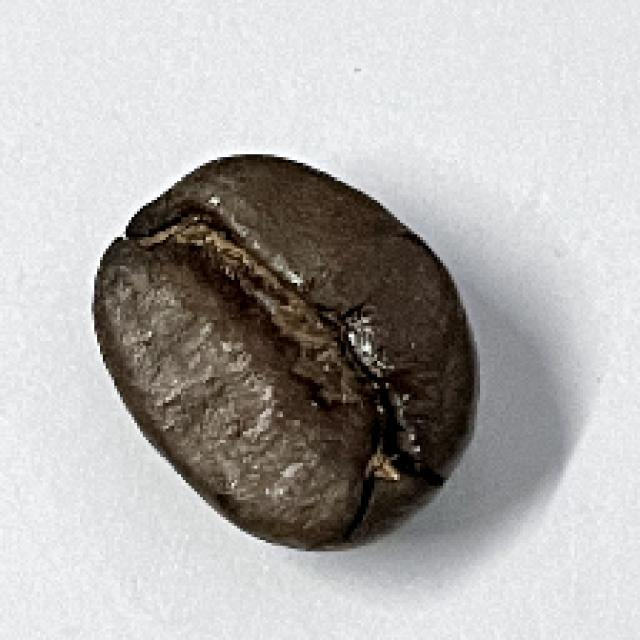bean: (87, 151, 481, 554)
